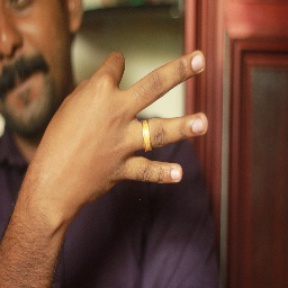K: (49, 49, 214, 196)
